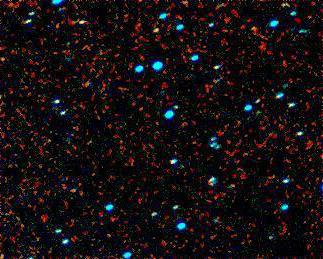star: (240, 11, 270, 41)
